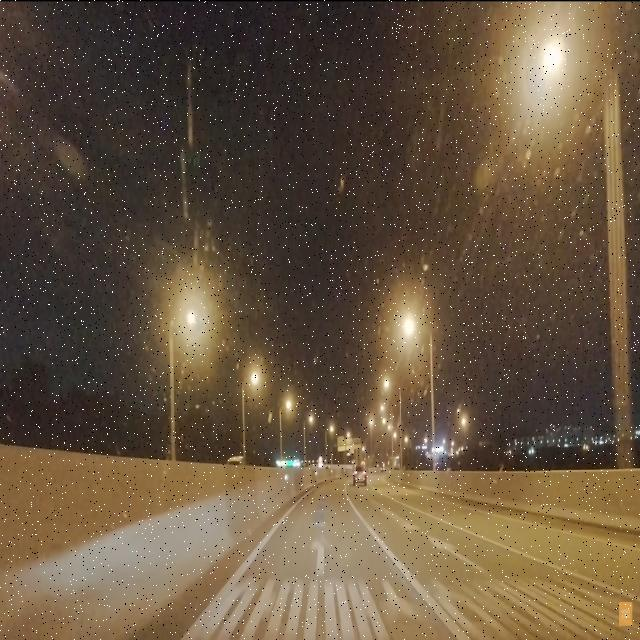forward: (227, 524, 422, 585)
